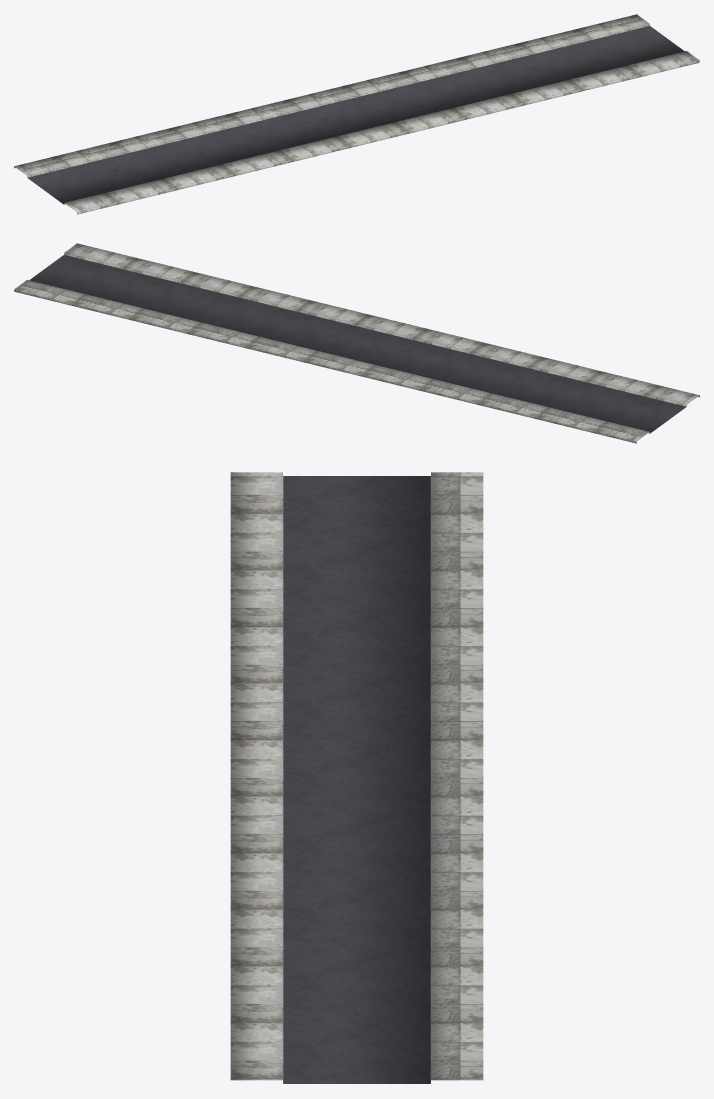
Rendered from strada_dritta_piccola_bianca.glb.
3 views of the same model, one above another, from view 1: azimuth 30°, elevation 25°; view 2: azimuth 150°, elevation 25°; view 3: azimuth 270°, elevation 25° (orthographic). The views are drawn at different scales.
Parts seen in each view (by area): view 1: road.023; view 2: road.023; view 3: road.023.
Boxes of the visible parts, x1=… form: road.023: x1=14, y1=14, x2=699, y2=214; road.023: x1=14, y1=243, x2=699, y2=443; road.023: x1=230, y1=472, x2=483, y2=1083.
Size of the model in its own units: 21.01 by 0.0716 by 3.69.
Materials: 2 (2 with a texture image).
